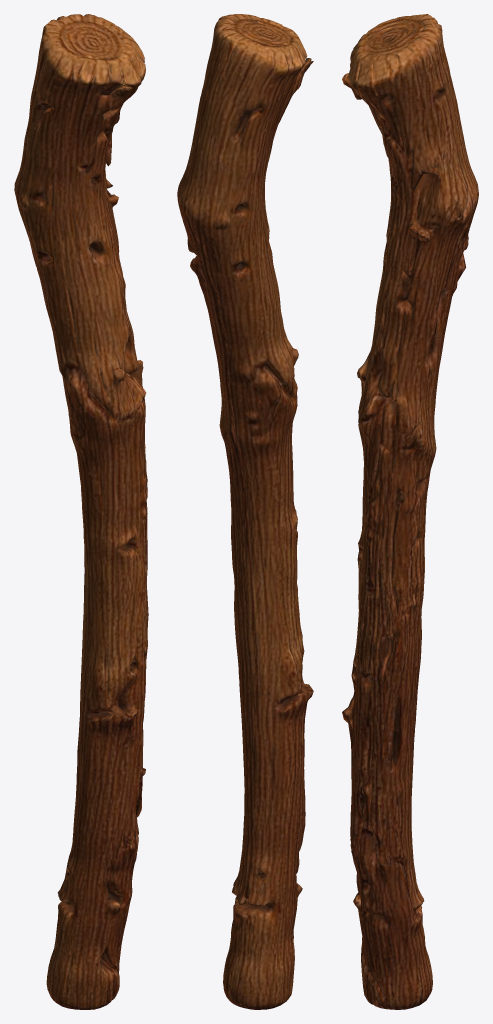
The model's file is david_staff_game.glb.
3 views of the same model, side by side, from view 1: azimuth 90°, elevation 25°; view 2: azimuth 150°, elevation 25°; view 3: azimuth 330°, elevation 25° (orthographic).
Visible parts, largest first — view 1: tripo_node_2578806f-533b-44eb-9e3c-0aee0b1a262f; view 2: tripo_node_2578806f-533b-44eb-9e3c-0aee0b1a262f; view 3: tripo_node_2578806f-533b-44eb-9e3c-0aee0b1a262f.
Part boxes in pixels (x1,y1,x2,y2): tripo_node_2578806f-533b-44eb-9e3c-0aee0b1a262f: (14,14,148,1009); tripo_node_2578806f-533b-44eb-9e3c-0aee0b1a262f: (177,14,313,1009); tripo_node_2578806f-533b-44eb-9e3c-0aee0b1a262f: (342,14,478,1009).
Size of the model in its own units: 0.1147 by 0.9798 by 0.1228.
1 material, 1 textured.
